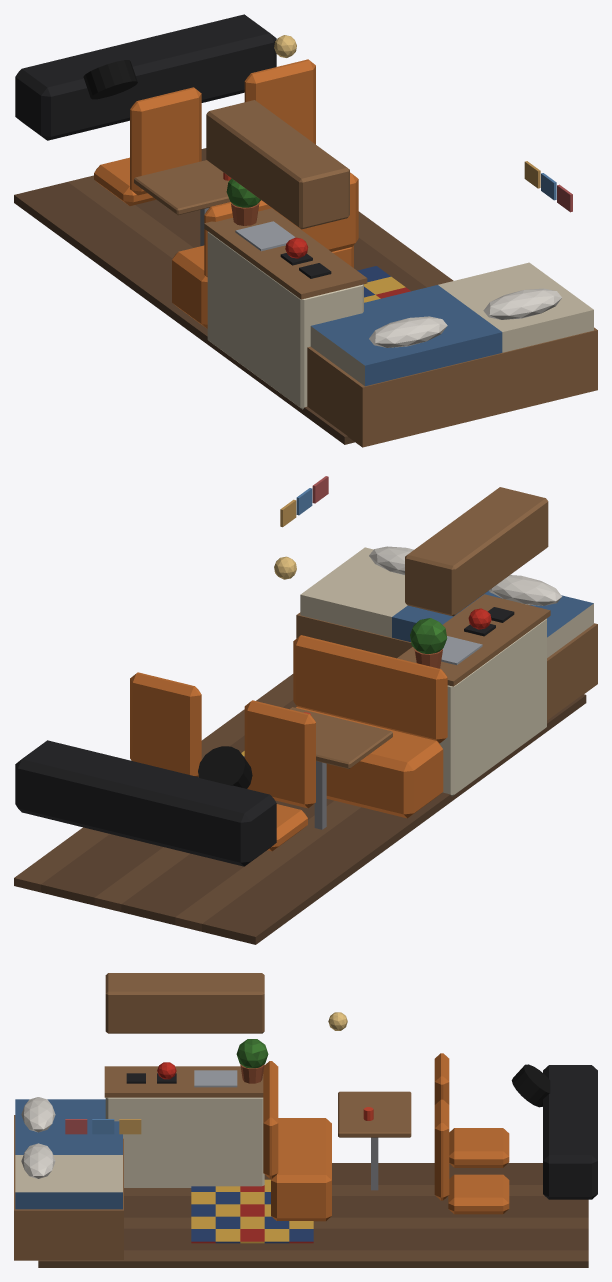
File: camper_cabin.glb
The picture shows the model from 3 angles, top to bottom: view 1: azimuth 30°, elevation 25°; view 2: azimuth 150°, elevation 25°; view 3: azimuth 270°, elevation 25°; orthographic projection. The views are drawn at different scales.
Visible parts, largest first — view 1: box; view 2: box; view 3: box.
Part boxes in pixels (x1=…): box: x1=14, y1=14, x2=597, y2=447; box: x1=14, y1=476, x2=597, y2=944; box: x1=14, y1=973, x2=597, y2=1267.
Size of the model in its own units: 1.95 by 1.86 by 4.77.
